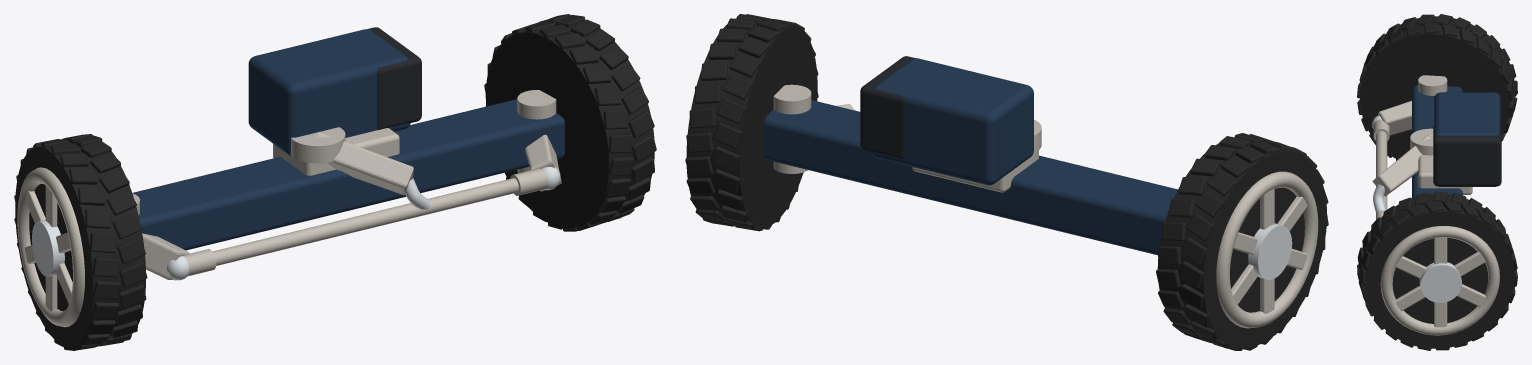
Rendered from robots-49.glb.
3 renders of one model, left to right at view 1: azimuth 30°, elevation 25°; view 2: azimuth 150°, elevation 25°; view 3: azimuth 270°, elevation 25°, orthographic. The views are drawn at different scales.
Parts seen in each view (by area): view 1: tires, beam, servo, hubs, rods, horn, knuckles, rod-ends, mounts; view 2: tires, beam, servo, hubs, knuckles, mounts; view 3: tires, hubs, servo, horn, beam, knuckles, mounts, rods, drag-link, rod-ends.
Boxes of the visible parts, x1,y1,x2,y2 form: tires: (14, 14, 656, 350); beam: (132, 99, 564, 250); servo: (248, 27, 421, 155); hubs: (17, 167, 84, 327); rods: (212, 178, 518, 265); horn: (290, 127, 413, 195); knuckles: (132, 90, 561, 280); rod-ends: (167, 167, 560, 280); mounts: (273, 128, 399, 175); tires: (685, 14, 1328, 350); beam: (764, 100, 1177, 255); servo: (860, 56, 1033, 185); hubs: (1216, 171, 1318, 328); knuckles: (773, 84, 854, 173); mounts: (912, 150, 1038, 192); tires: (1357, 14, 1517, 350); hubs: (1380, 226, 1499, 335); servo: (1433, 92, 1501, 186); horn: (1372, 128, 1433, 196); beam: (1412, 85, 1462, 198); knuckles: (1378, 75, 1447, 135); mounts: (1418, 154, 1472, 194); rods: (1376, 131, 1387, 219); drag-link: (1373, 184, 1385, 212); rod-ends: (1372, 115, 1389, 140).
Bounding box in the file's own units: 2.8 × 0.9447 × 0.919.
